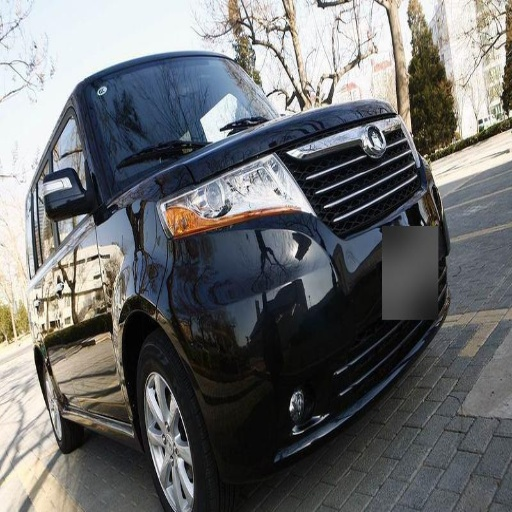front_bumper: (213, 123, 447, 338)
front_left_light: (172, 160, 268, 217)
front_right_door: (54, 91, 95, 249)
